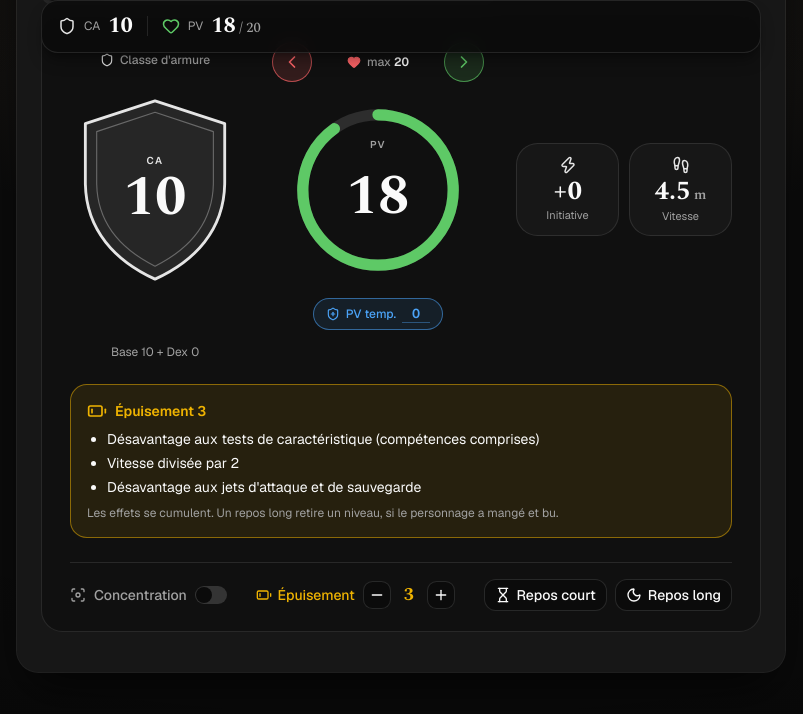
Épuisement (mode jeu) › raises the level, lists cumulative effects and halves HP at 4
(page scrolled)
Expected: the number of list items is 3, [107,430,539,448]; [107,454,239,472]; [107,478,421,496]
Click the button named "Ajouter un niveau d'épuisement": [441, 595] box [427,581,455,609]
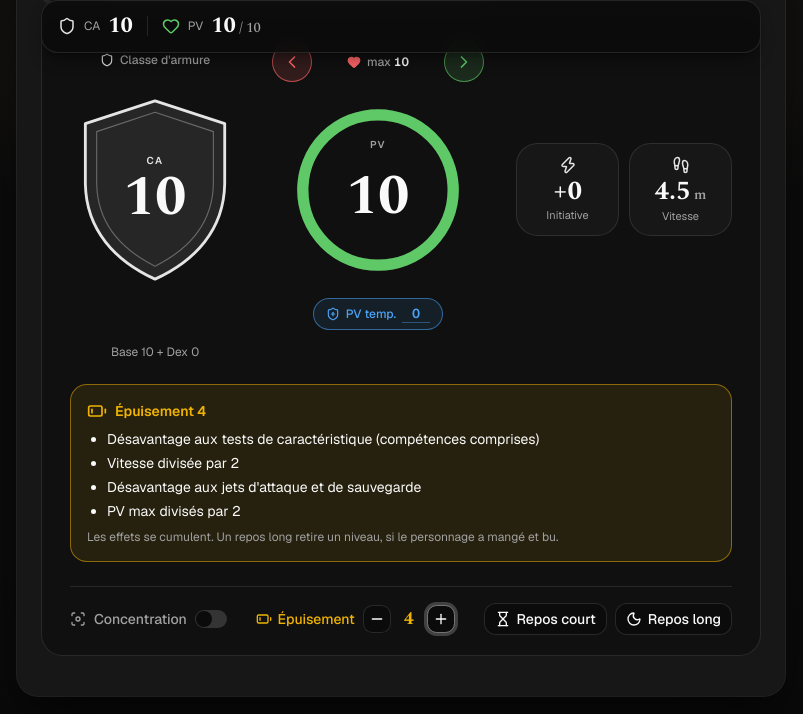
Expected: the element "Épuisement 4" shows "PV max divisés par 2", [107,502,241,520]
